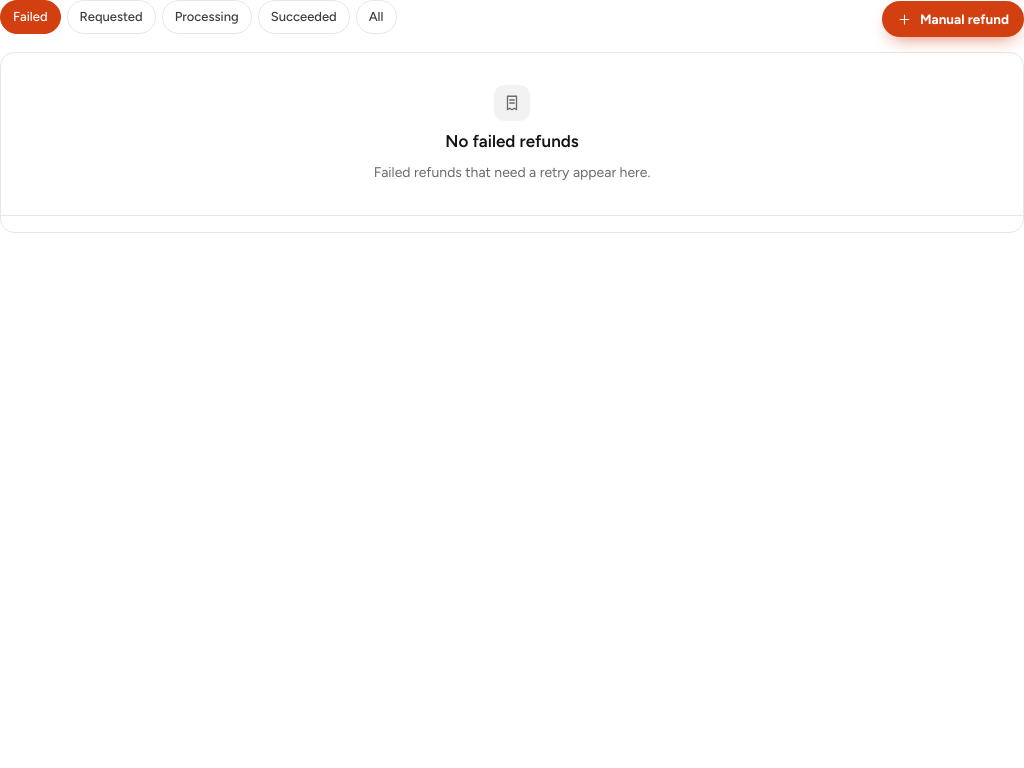
Test case: RefundsPanel manual refund lookup › auto-selects only an exact payment id match
Click the button "Manual refund" at (953, 19), box [882,1,1023,37]
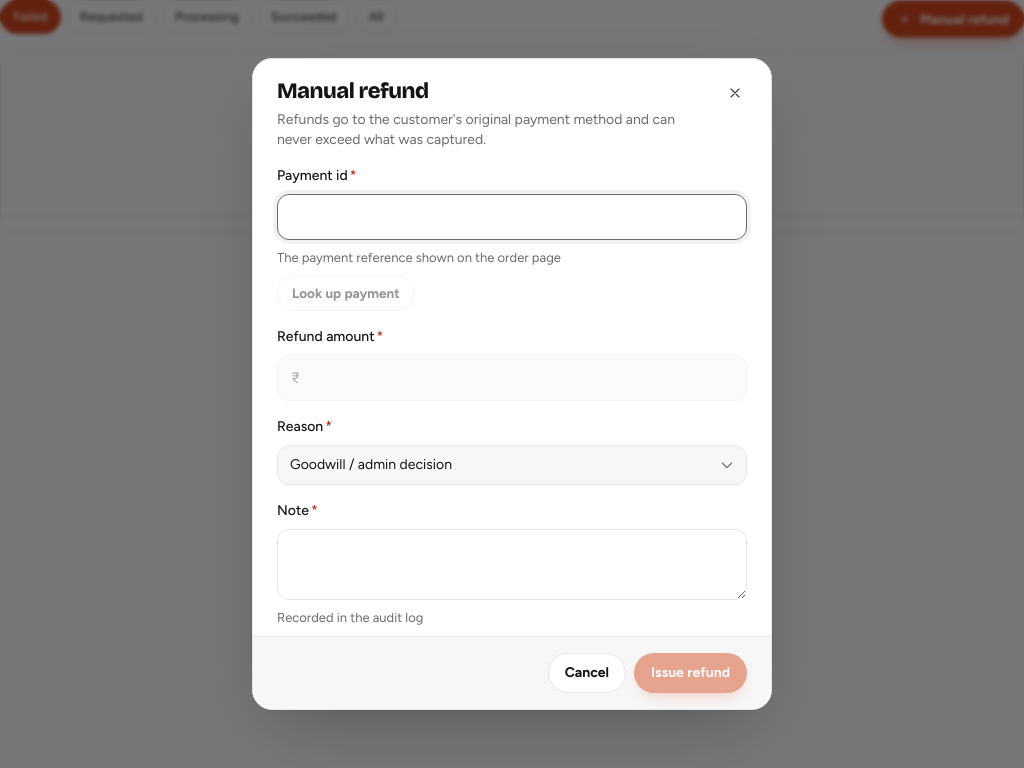
Type "aaaaaaaaaaaaaaaaaaaaaaaa" into the field labelled "Payment id*" at (512, 217), box [277,194,747,240]
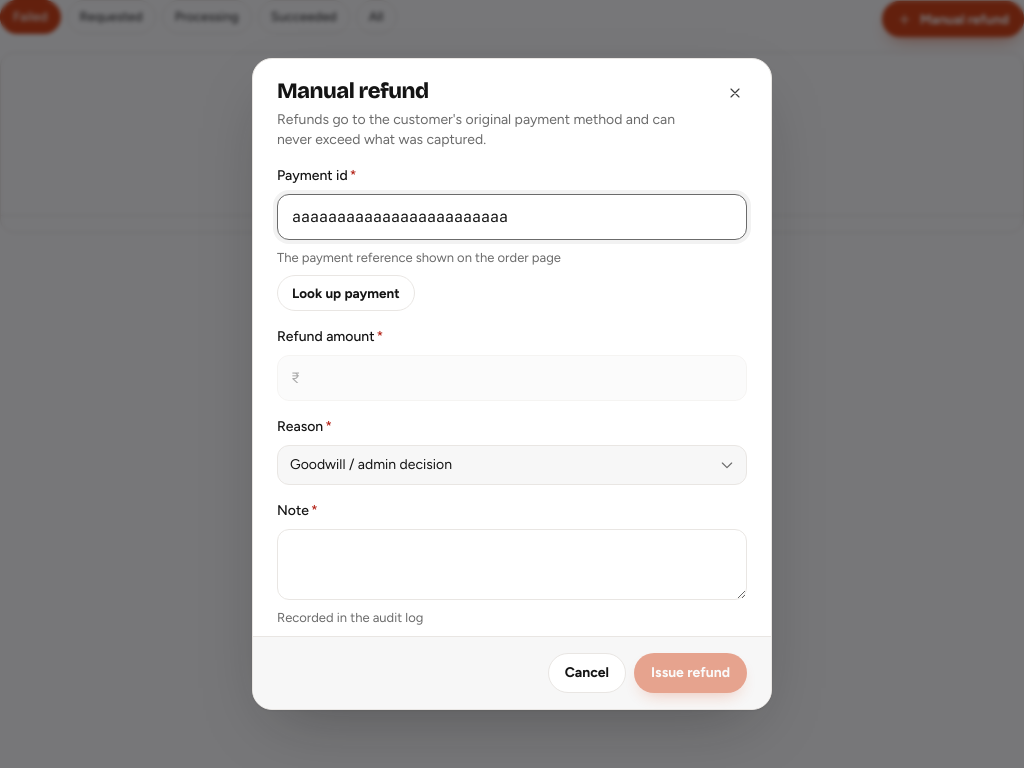
Click the button "Look up payment" at (346, 293), box [277,275,415,311]
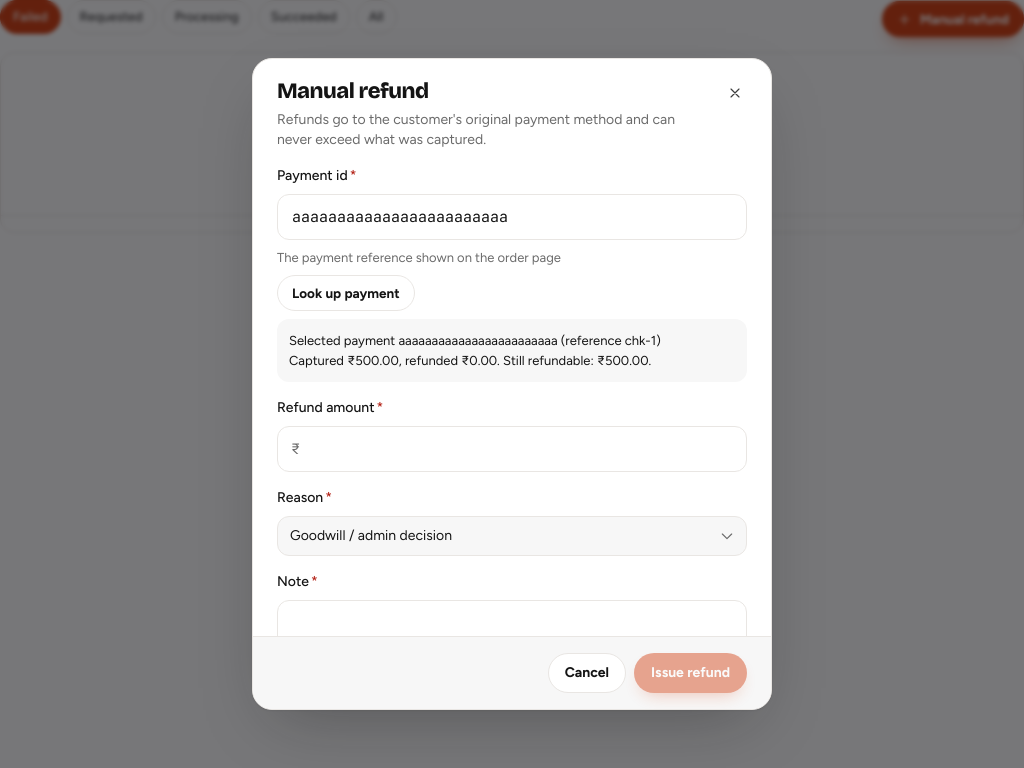
Expected: the text "Selected payment aaaaaaaaaaaaaaaaaaaaaaaa (reference chk-1)" is shown, [289,333,661,348]
